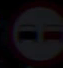No overtake: (12, 9, 60, 54)
